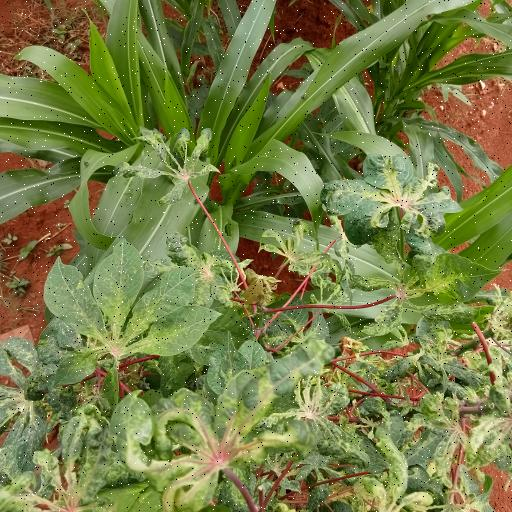Cassava_Mosaic: (43, 240, 220, 378), (118, 373, 290, 512), (356, 239, 494, 334), (322, 155, 467, 231), (127, 130, 222, 204)
